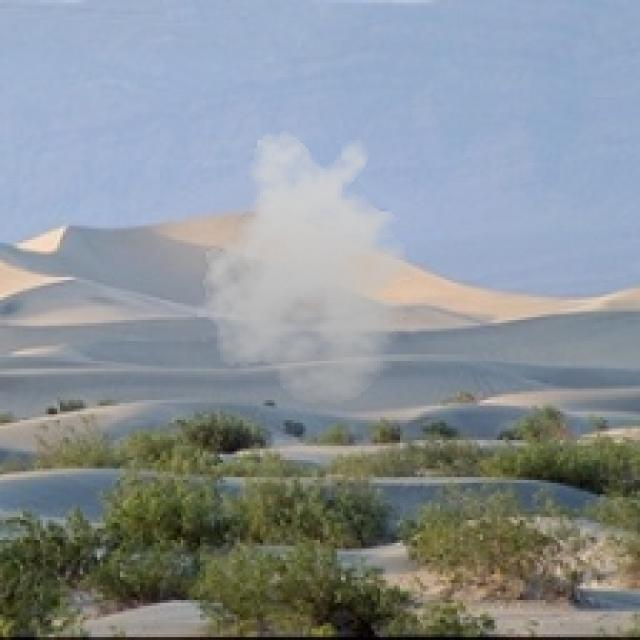Smoke: (188, 128, 434, 406)
